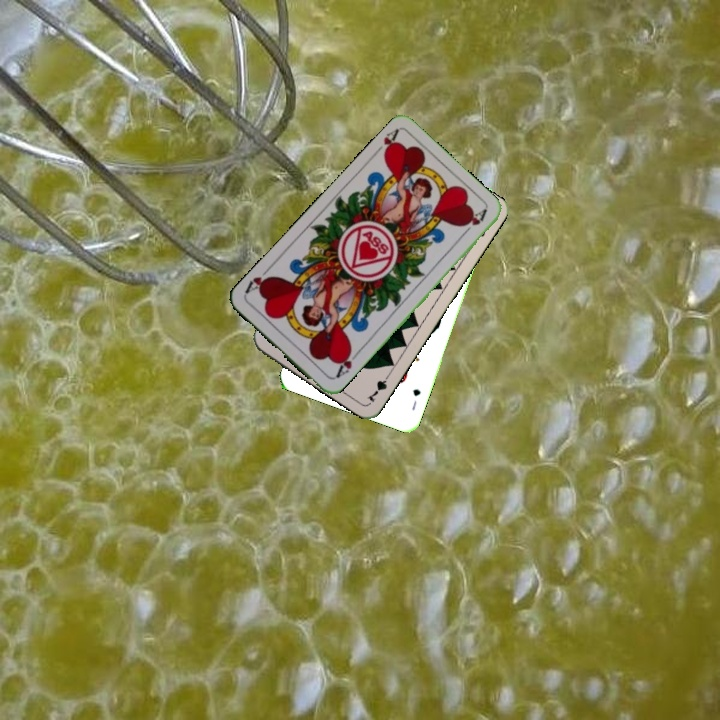G7: (363, 368, 393, 405)
GU: (408, 385, 423, 413)
HA: (369, 125, 401, 160), (332, 346, 362, 381)
